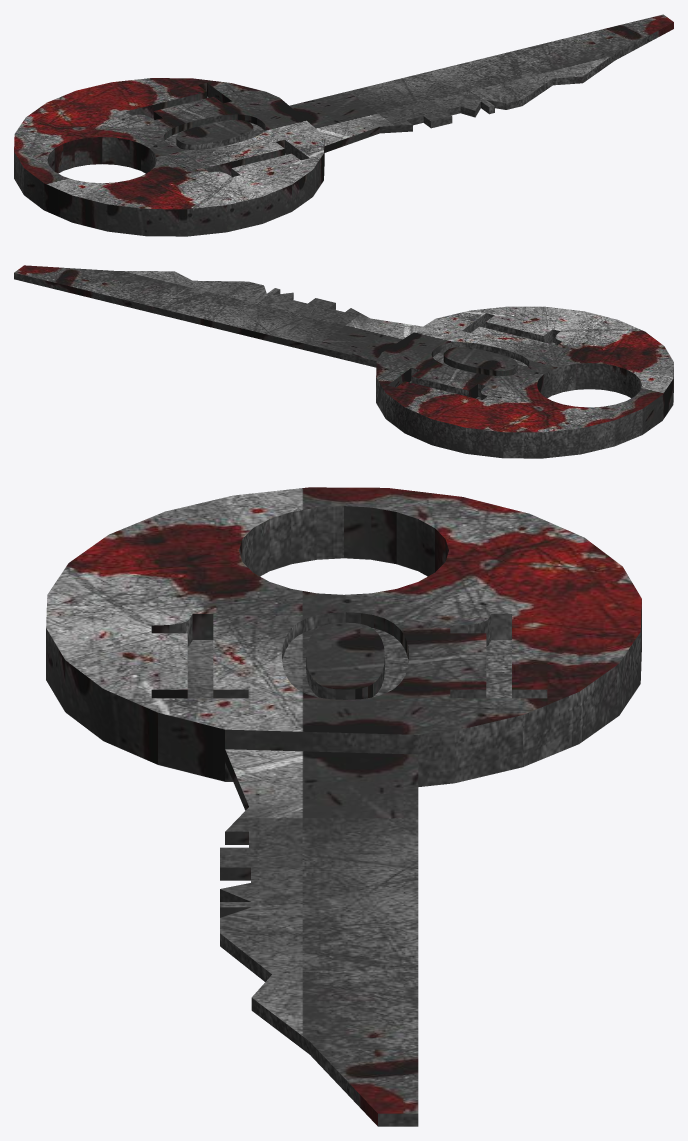
Rendered from Key_101.fbx.
3 views of the same model, one above another, from view 1: azimuth 30°, elevation 25°; view 2: azimuth 150°, elevation 25°; view 3: azimuth 270°, elevation 25° (orthographic). The views are drawn at different scales.
Visible parts, largest first — view 1: Group1; view 2: Group1; view 3: Group1.
Boxes of the visible parts, left/top/right/bottom form: Group1: left=14, top=14, right=673, bottom=236; Group1: left=14, top=265, right=673, bottom=458; Group1: left=46, top=487, right=641, bottom=1126.
Size of the model in its own units: 995 by 40 by 413.
